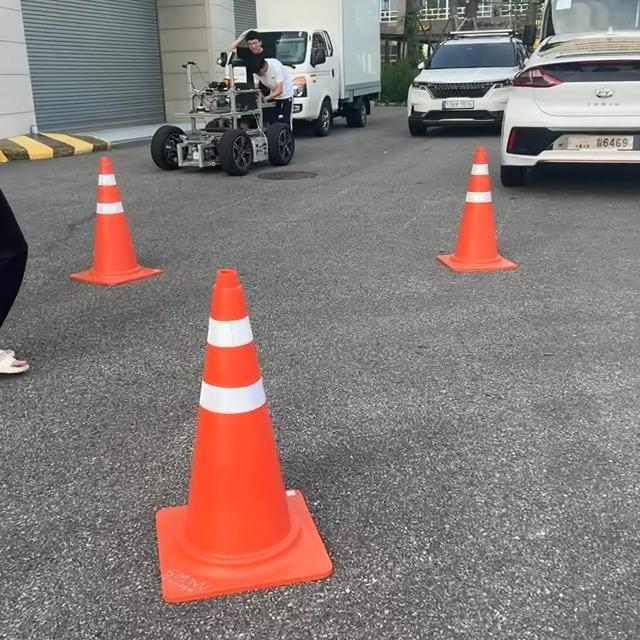fallen_object: (106, 245, 382, 577), (410, 145, 584, 352), (69, 153, 182, 276)
